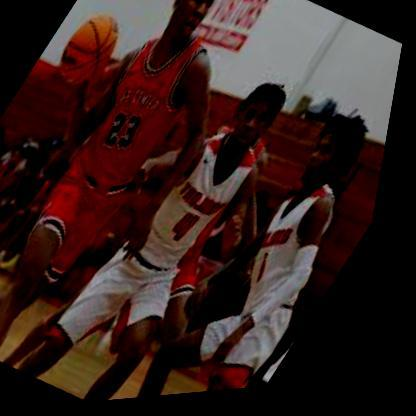basketball: (47, 5, 134, 95)
